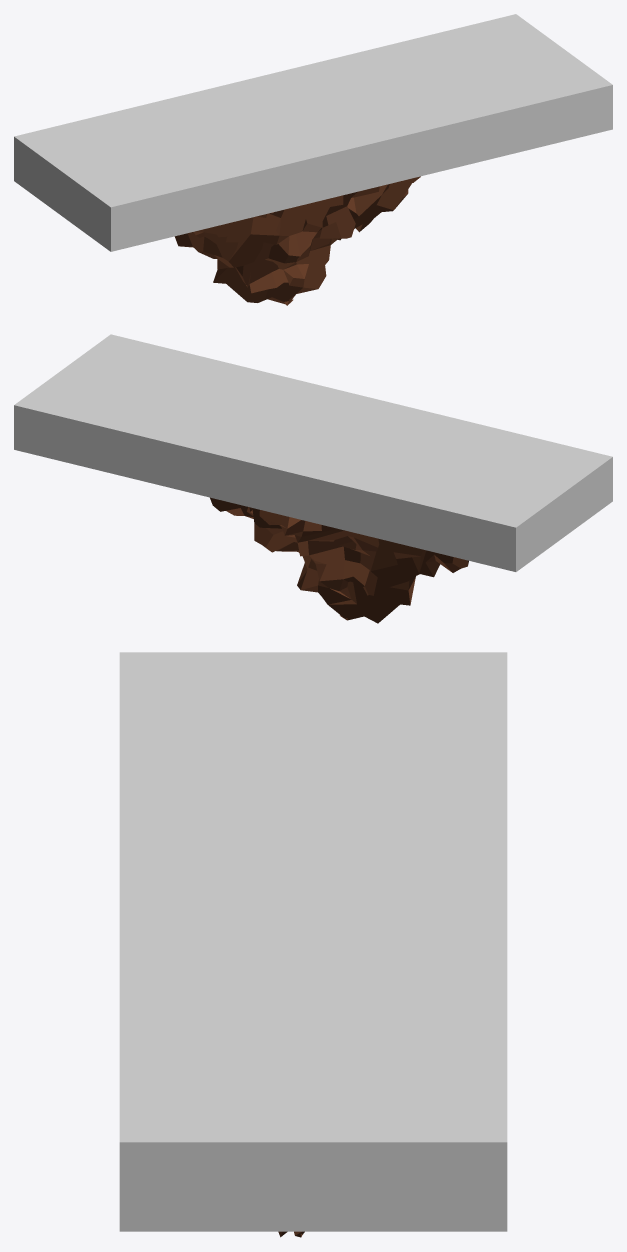
The model's file is island 5 bald.glb.
3 renders of one model, top to bottom at view 1: azimuth 30°, elevation 25°; view 2: azimuth 150°, elevation 25°; view 3: azimuth 270°, elevation 25°, orthographic. The views are drawn at different scales.
Parts seen in each view (by area): view 1: Cube, Vert; view 2: Cube, Vert; view 3: Cube.
Part boxes in pixels (box(x1,y1,x2,y2)): Cube: box(14, 14, 612, 251); Vert: box(174, 176, 420, 305); Cube: box(14, 334, 612, 571); Vert: box(210, 497, 468, 623); Cube: box(119, 652, 507, 1231).
Bounding box in the file's own units: 18.09 × 6.35 × 6.04.
